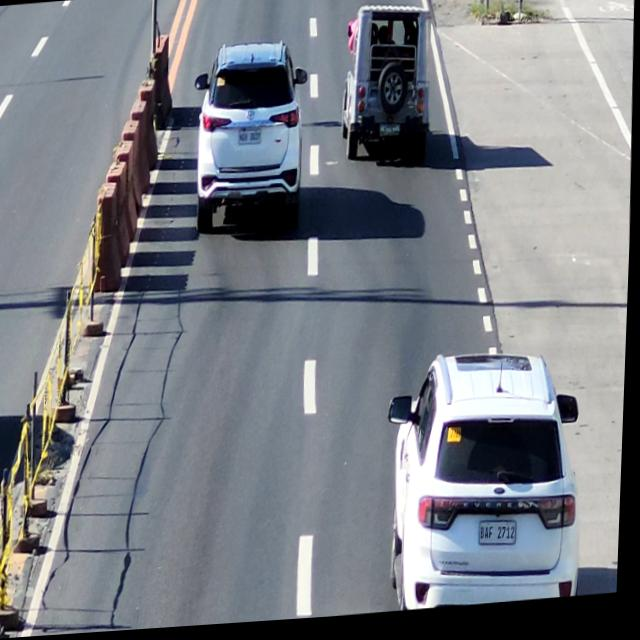Car: (382, 343, 598, 618), (192, 36, 310, 253)
Jeep: (338, 1, 439, 177)
License-Plate: (480, 521, 524, 557), (377, 121, 404, 146), (237, 129, 266, 147)
